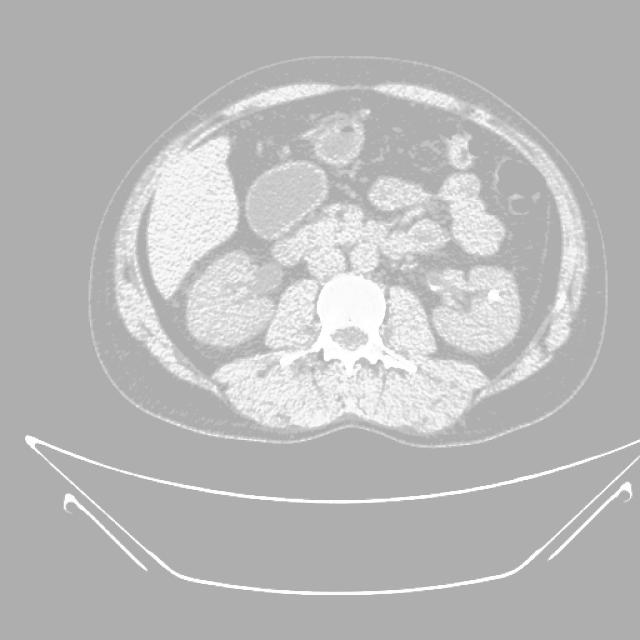STONE: (297, 115, 613, 274)
